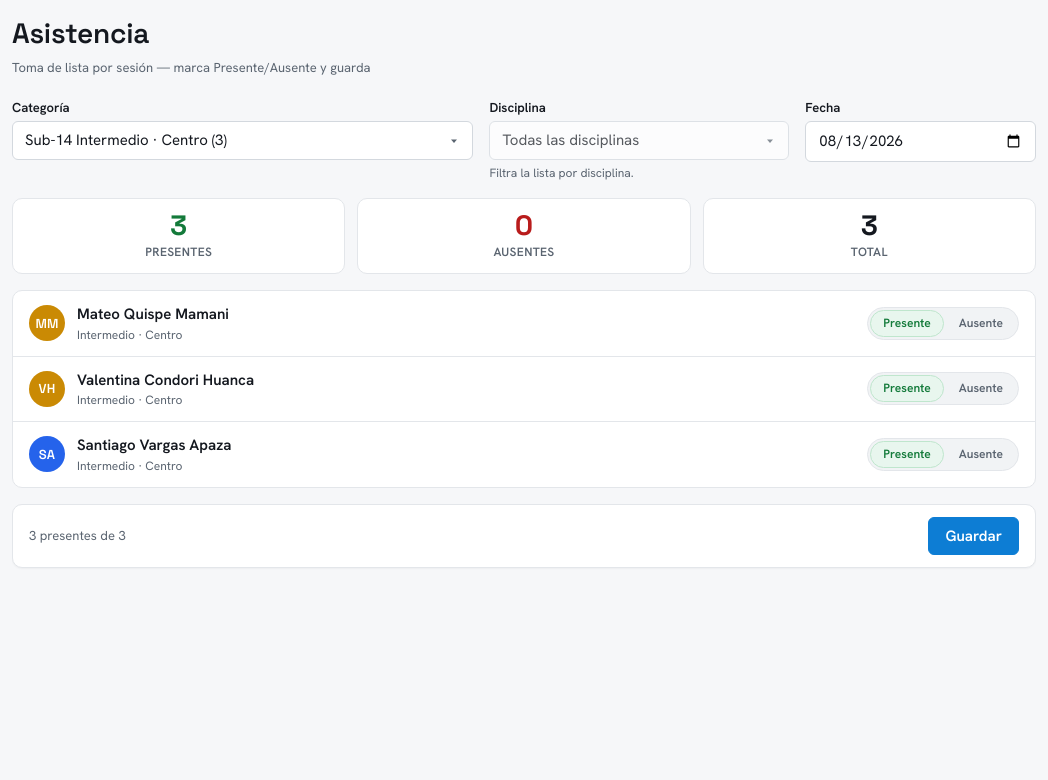
Test: TomarAsistencia › Guardar envía las marcas efectivas y muestra feedback
Check: the text "Mateo Quispe Mamani" is shown, box [77, 304, 229, 324]
What coordinates should you click on to do the following:
click the button "Guardar"
I would click on:
 (974, 536)
Its box is [928, 516, 1019, 554].
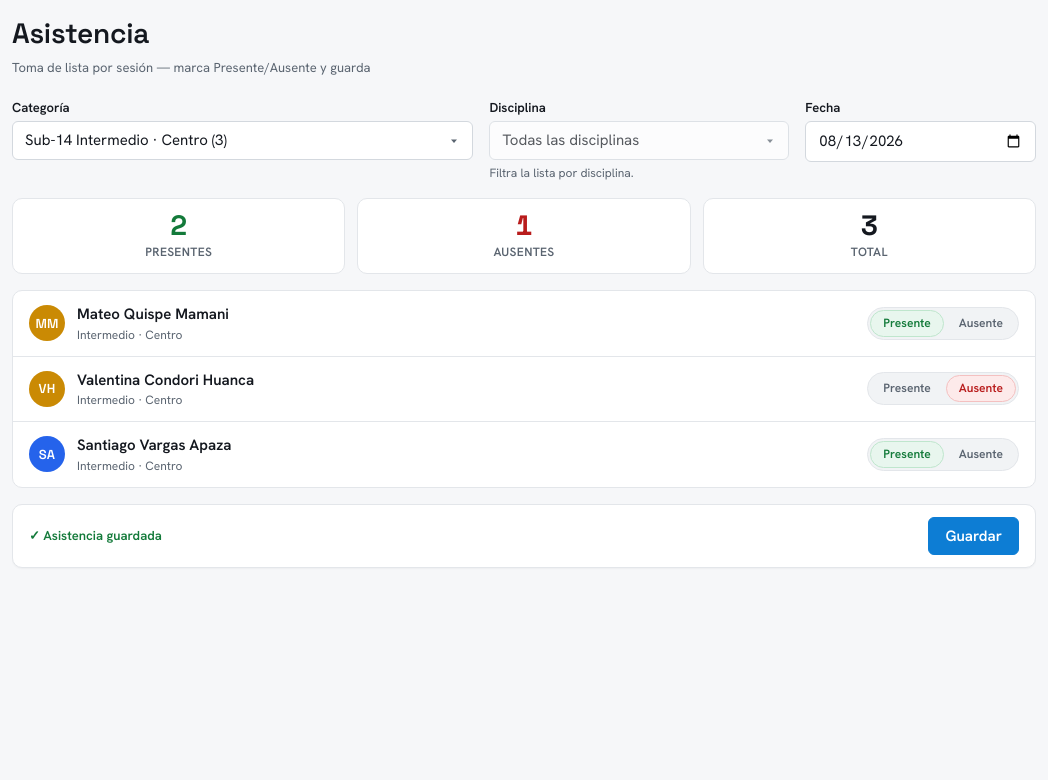
Check: the text "✓ Asistencia guardada" is shown, box [29, 527, 162, 544]
